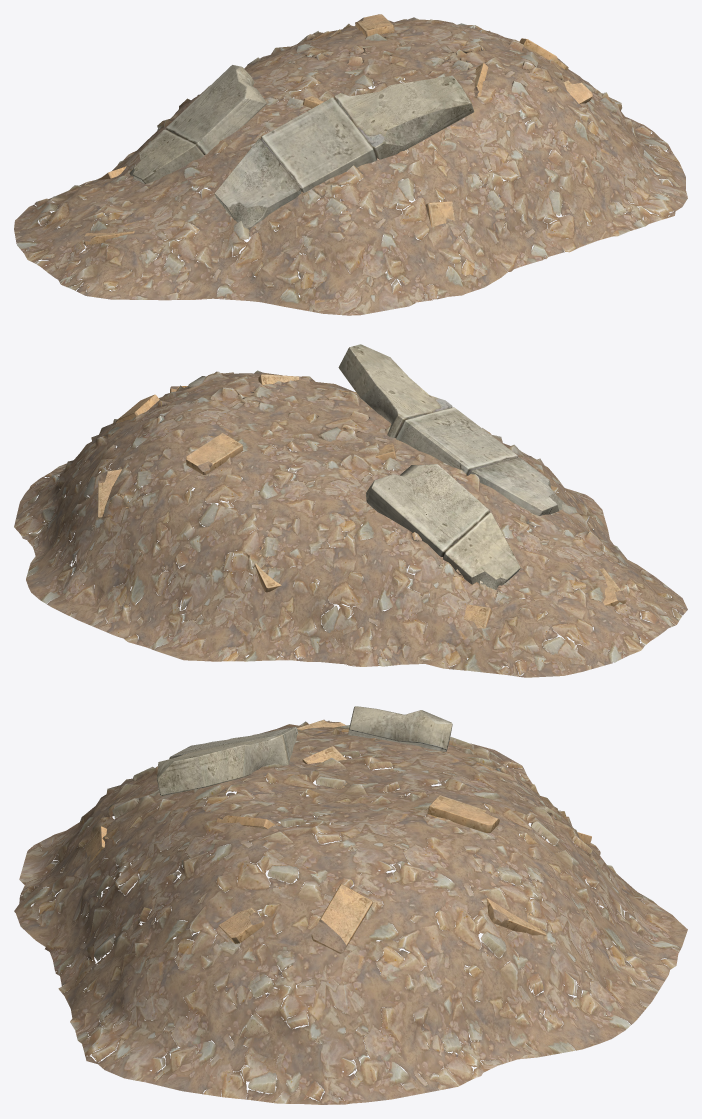
3 renders of one model, top to bottom at view 1: azimuth 30°, elevation 25°; view 2: azimuth 150°, elevation 25°; view 3: azimuth 270°, elevation 25°, orthographic. The views are drawn at different scales.
Parts seen in each view (by area): view 1: SM_Magic_Institute_Rubble_01v4_LOD0; view 2: SM_Magic_Institute_Rubble_01v4_LOD0; view 3: SM_Magic_Institute_Rubble_01v4_LOD0.
Part boxes in pixels (left/top/right/bottom): SM_Magic_Institute_Rubble_01v4_LOD0: left=14, top=14, right=687, bottom=315; SM_Magic_Institute_Rubble_01v4_LOD0: left=14, top=344, right=687, bottom=677; SM_Magic_Institute_Rubble_01v4_LOD0: left=14, top=706, right=687, bottom=1104.
Size of the model in its own units: 16.06 by 3.87 by 12.22.
3 materials, 3 textured.
